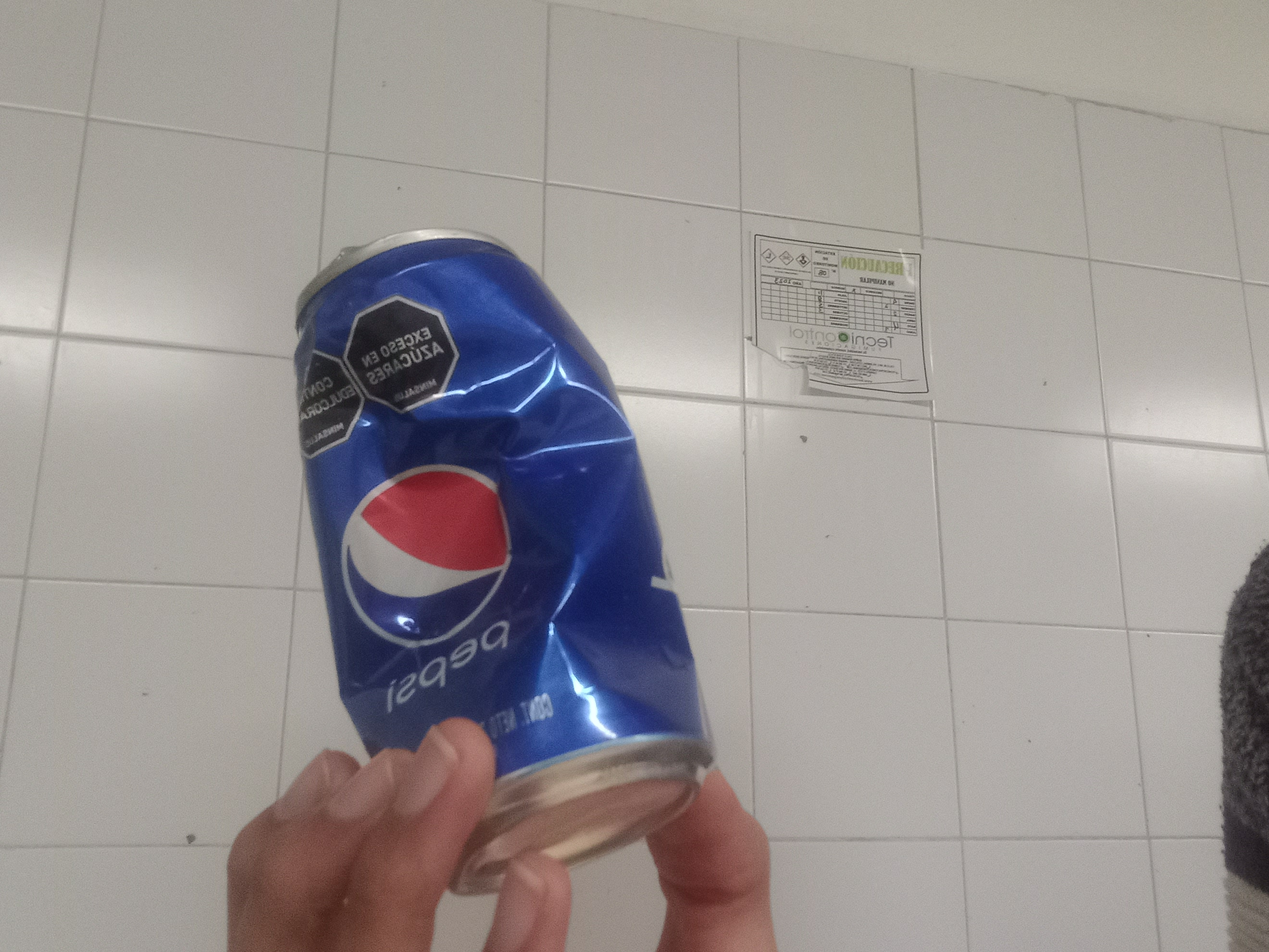Metal: (289, 227, 714, 896)
